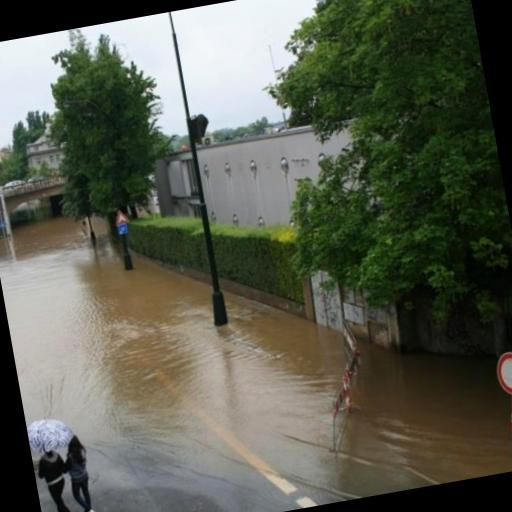flood: (0, 217, 512, 497)
house: (154, 114, 384, 260), (17, 123, 67, 181)
